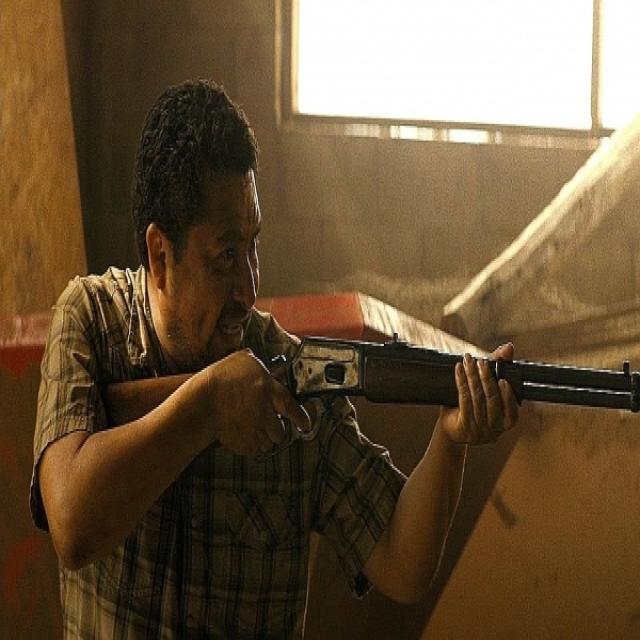rifle: (109, 338, 640, 438)
